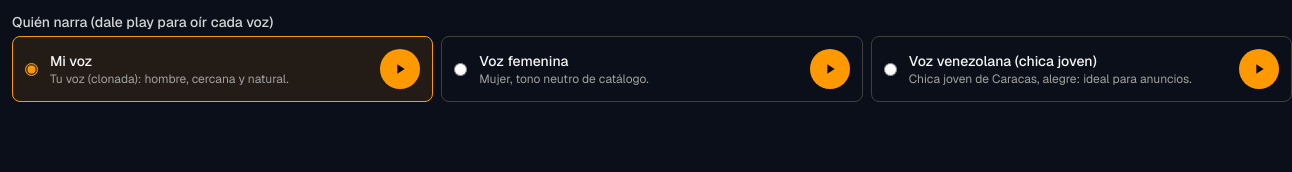
Scenario: BancoDeVoces (oír cada voz antes de elegirla) › si una voz no tiene muestra todavía, lo dice en su tarjeta
Click the button named "Oír la muestra: Voz venezolana". click: (1259, 69)
box: [1239,49,1279,89]
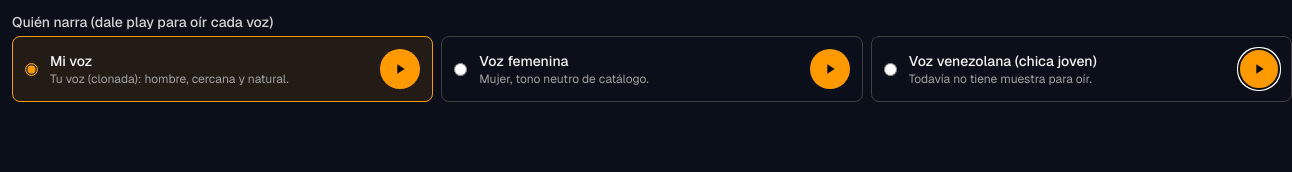
Now the text "Todavía no tiene muestra para oír." is shown, box [909,71,1092,87]
